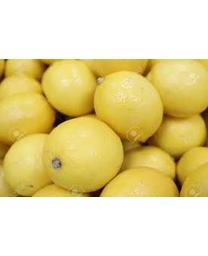lemon: (46, 116, 122, 190), (93, 72, 163, 138), (148, 61, 207, 117), (45, 62, 98, 116), (0, 92, 53, 142)
